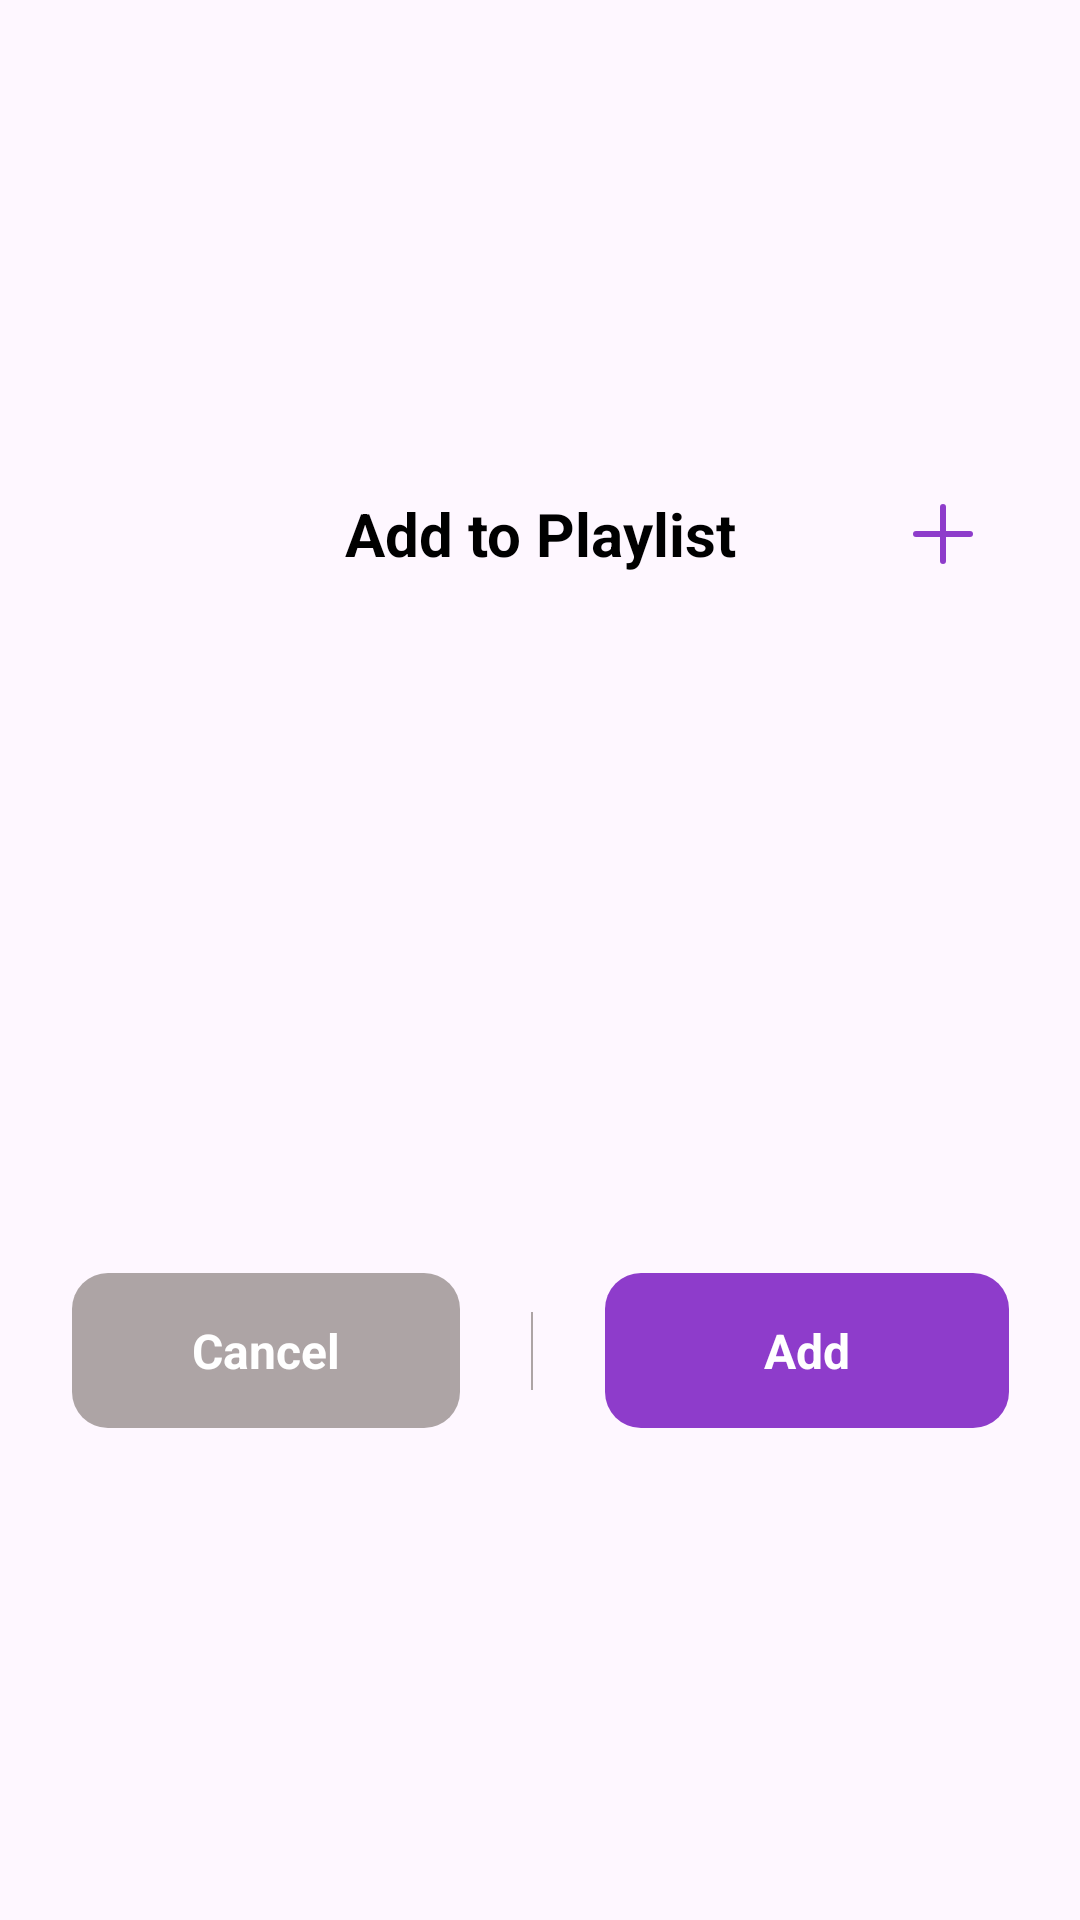

Named icons in this screenshot (1080*1920) and their bounding boxes, (x1, y1, x2, y2):
add: (913, 504, 973, 564)
